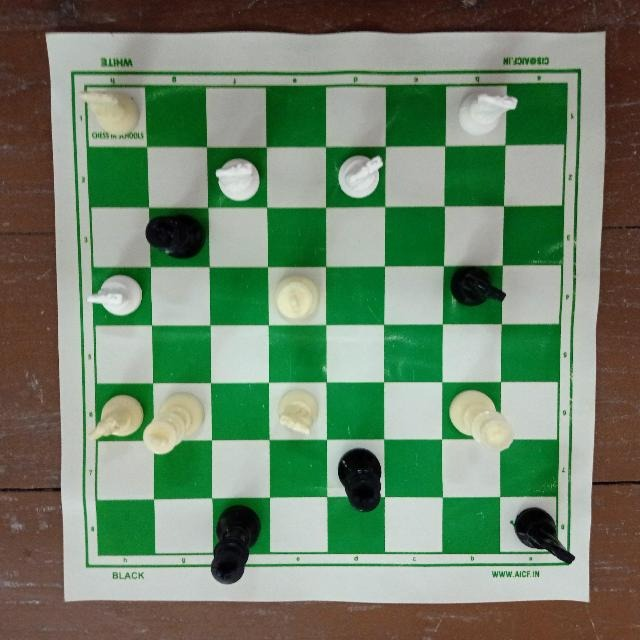black-king: (208, 501, 264, 589), (336, 446, 388, 522), (142, 209, 209, 266)
black-knight: (511, 505, 579, 571), (447, 262, 512, 310)
white-king: (143, 388, 207, 457), (271, 270, 327, 324)
white-knight: (73, 84, 143, 141), (452, 90, 527, 138), (334, 140, 384, 202), (209, 152, 266, 205), (83, 275, 144, 319), (272, 388, 326, 437), (88, 394, 142, 436)
white-queen: (442, 387, 517, 457)
